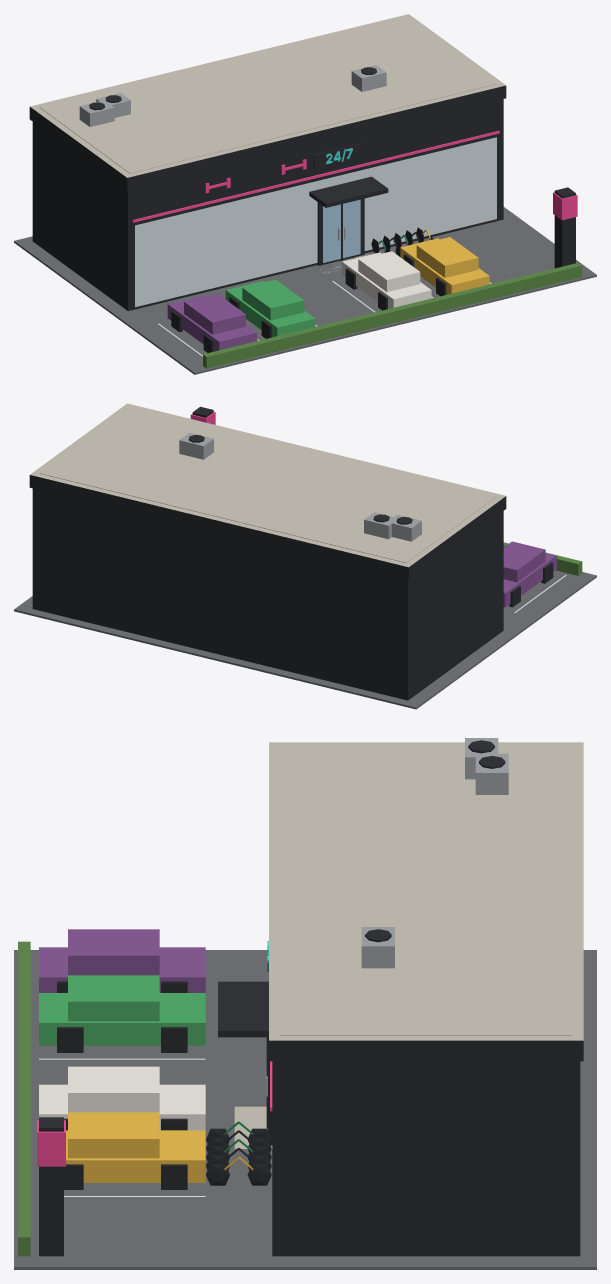
The model's file is Dukkan_cadde_fitness_Hafif.fbx.
3 renders of one model, top to bottom at view 1: azimuth 30°, elevation 25°; view 2: azimuth 150°, elevation 25°; view 3: azimuth 270°, elevation 25°, orthographic. The views are drawn at different scales.
Parts seen in each view (by area): view 1: Dukkan_cadde_fitness_Hafif; view 2: Dukkan_cadde_fitness_Hafif; view 3: Dukkan_cadde_fitness_Hafif.
Boxes of the visible parts, bbox=[...] form: Dukkan_cadde_fitness_Hafif: bbox=[14, 14, 596, 374]; Dukkan_cadde_fitness_Hafif: bbox=[14, 403, 596, 709]; Dukkan_cadde_fitness_Hafif: bbox=[14, 738, 596, 1269].
Bounding box in the file's own units: 18 × 6.52 × 14.
